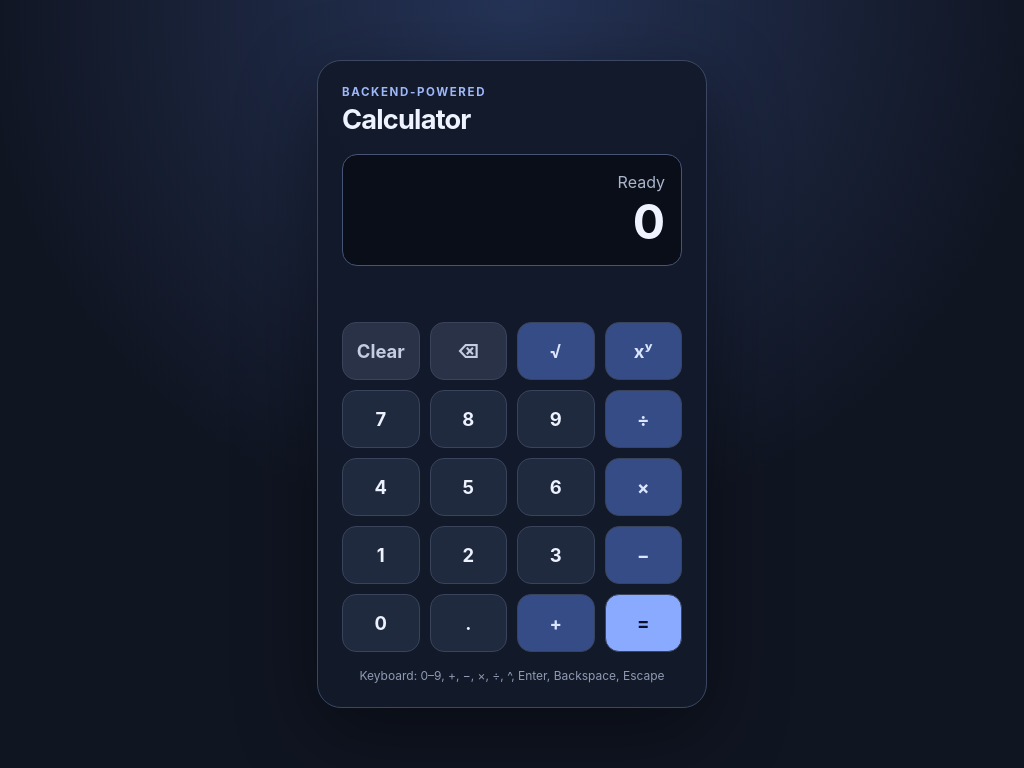
Test: App › submits multiply to the backend and displays its result
Type keys "2.5"
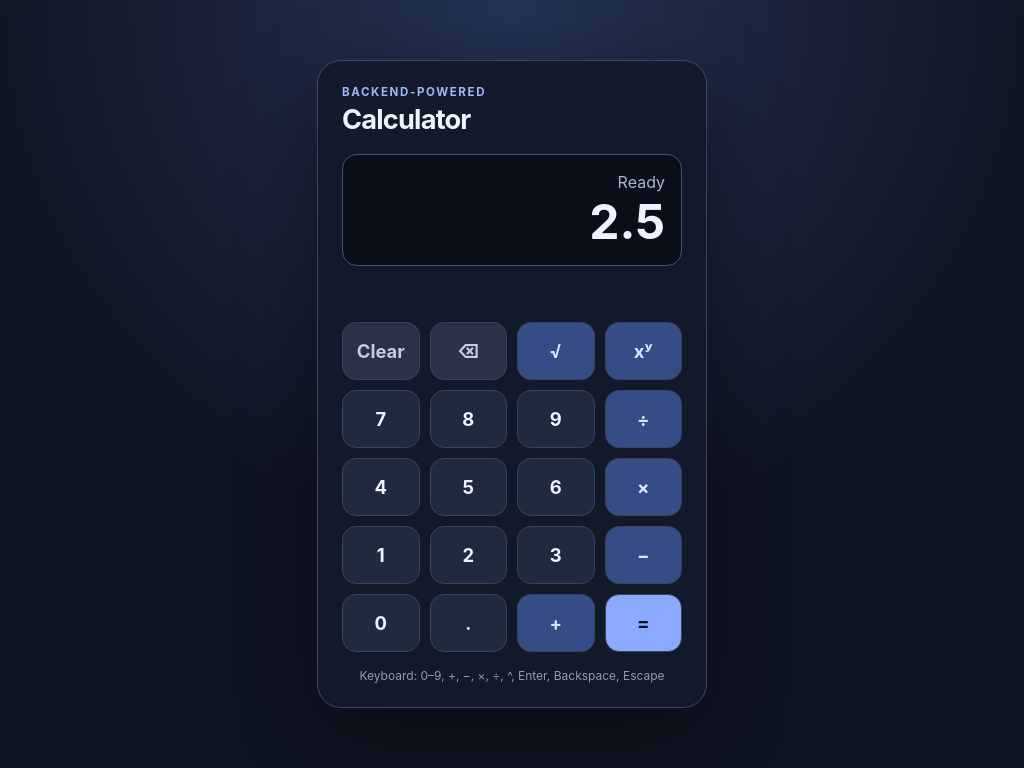
Click the button named "Multiply".
click(643, 487)  # box [604,458,682,516]
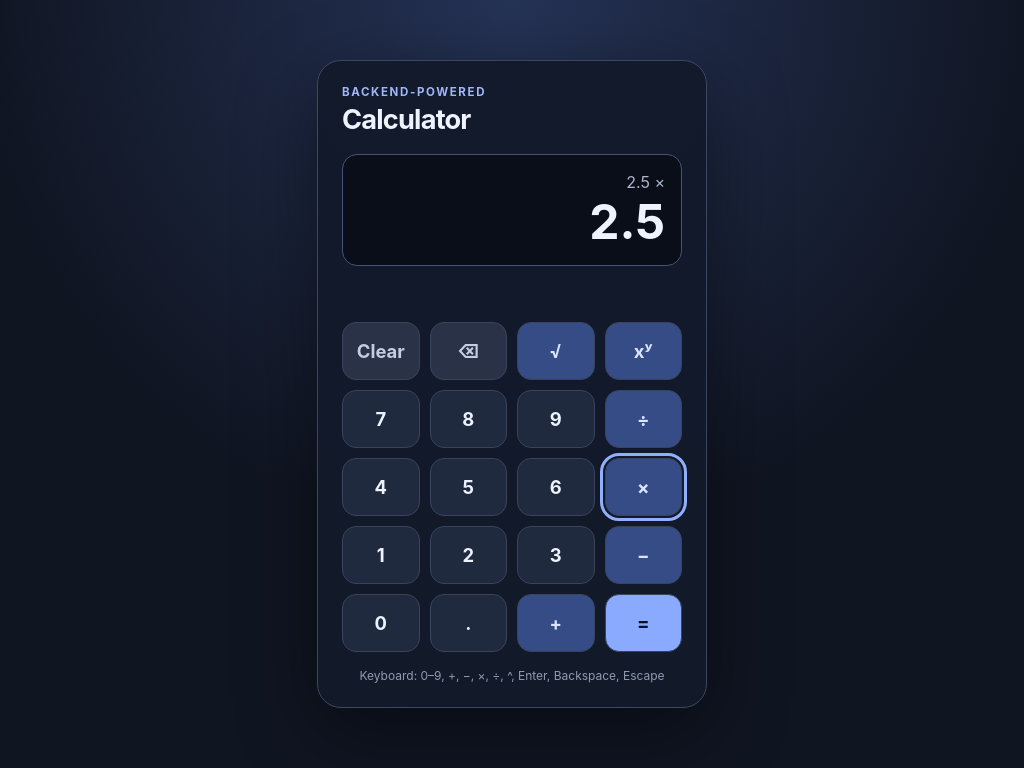
Type keys "4"
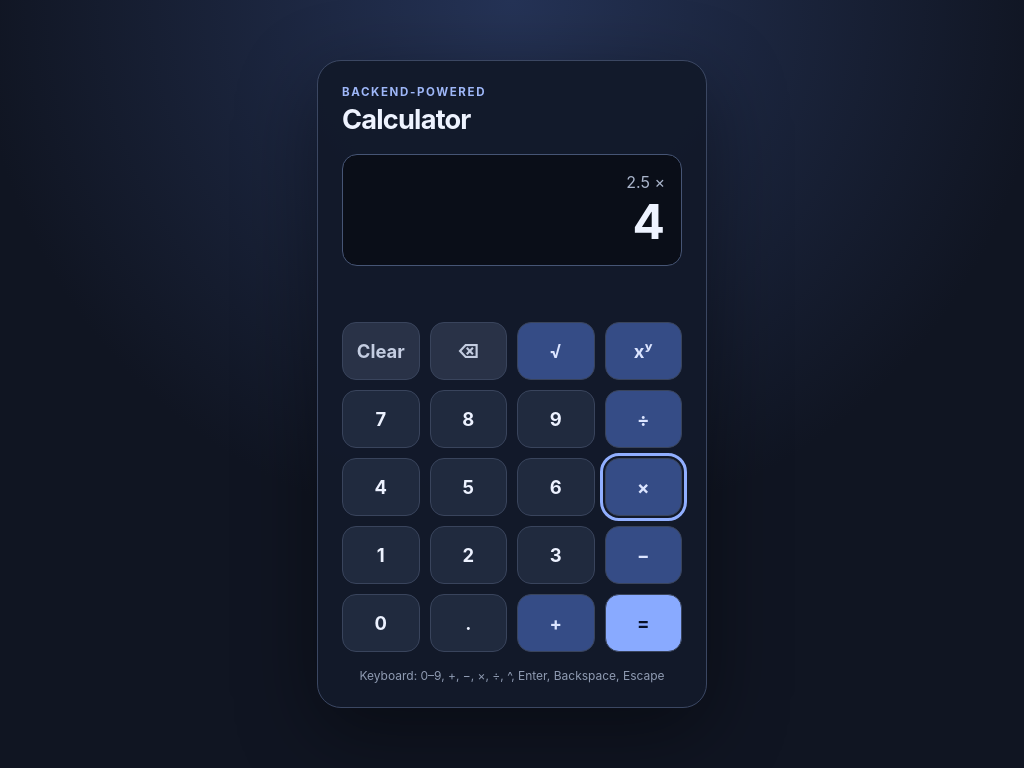
Click the button named "Equals".
click(643, 623)  # box [604,594,682,652]
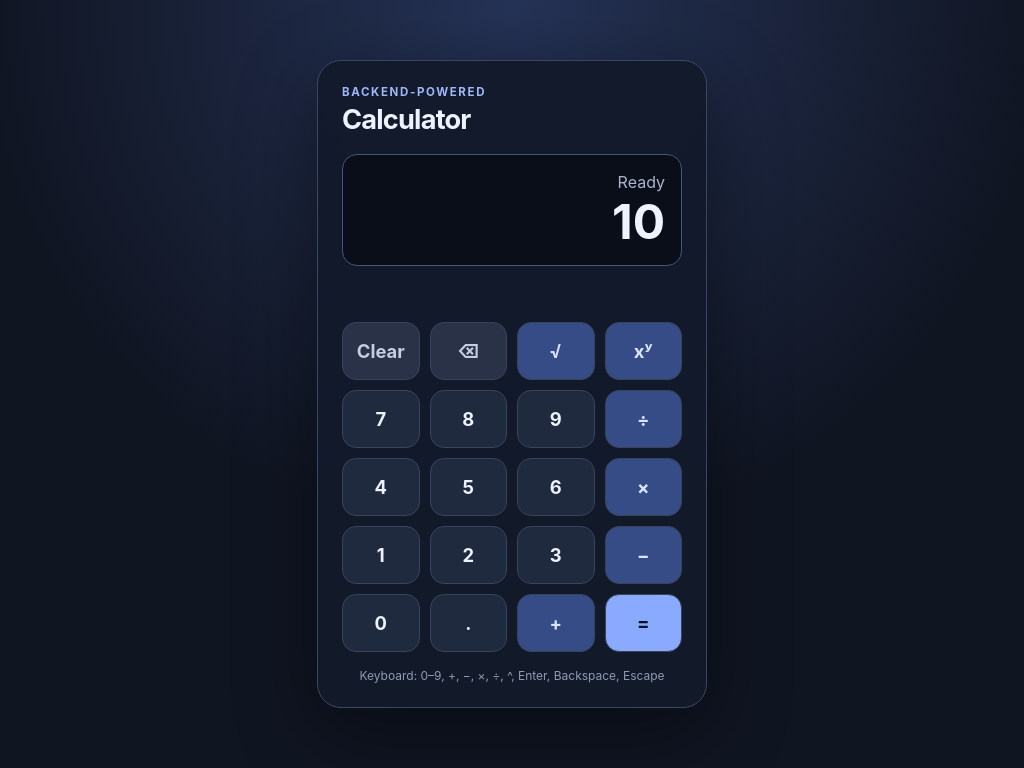
Result: the text with test id "display" reads "10" at [612,192,665,251]
